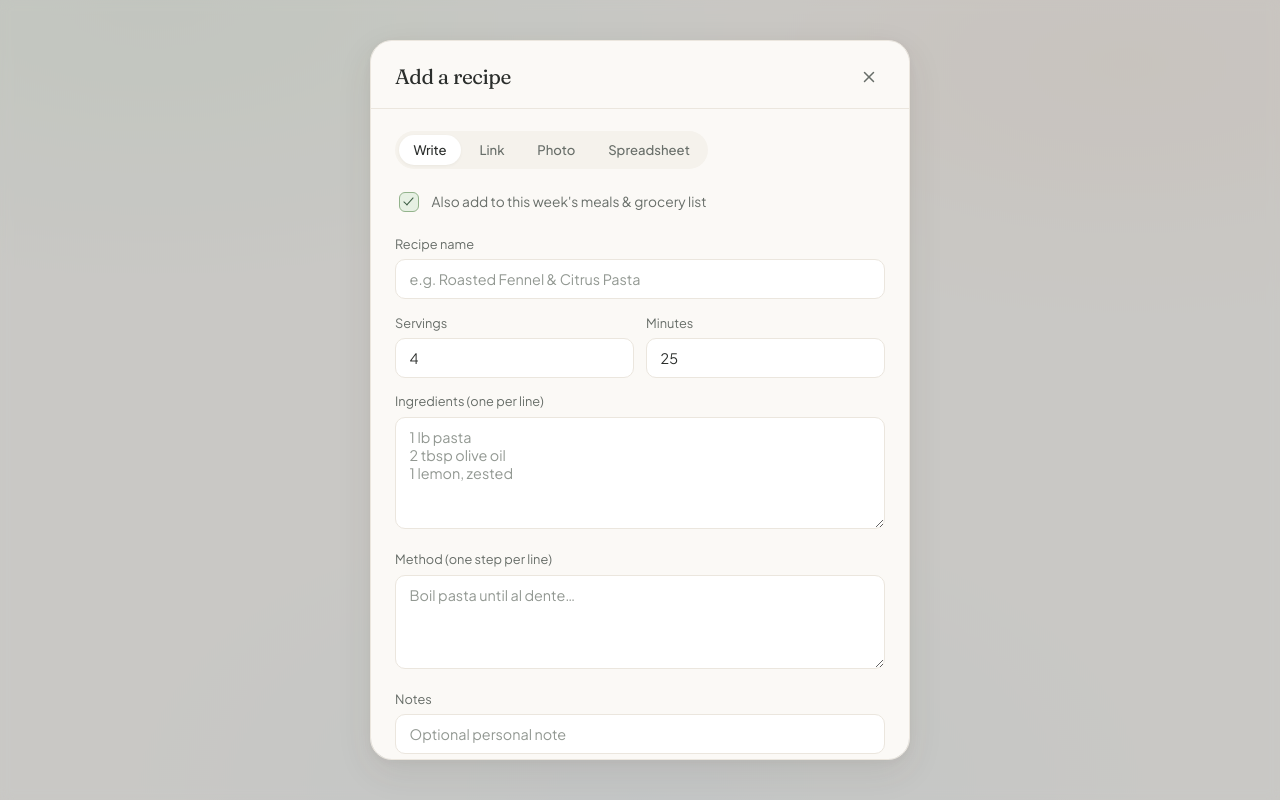
Scenario: AddRecipeModal — multi-page recipe photos & Gemini Vision feedback › explains clearly when Firebase AI needs App Check instead of silently hiding why local OCR ran
Click the tab "Photo" at (556, 150), box x1=523 y1=135 x2=590 y2=165
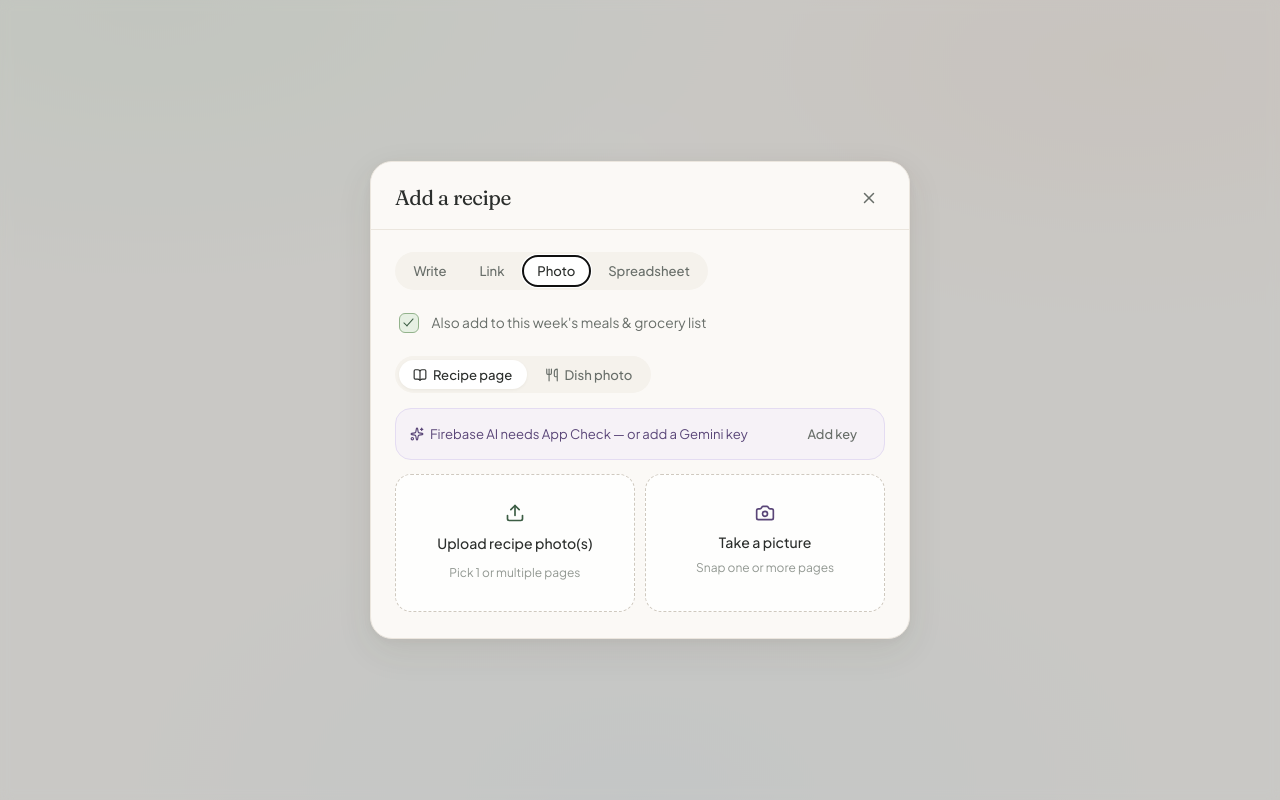
Expected: the text "Firebase AI needs App Check — or add a Gemini key" is shown, x1=410 y1=424 x2=748 y2=444
Click the button "Add key" at (832, 434), box x1=795 y1=420 x2=870 y2=448
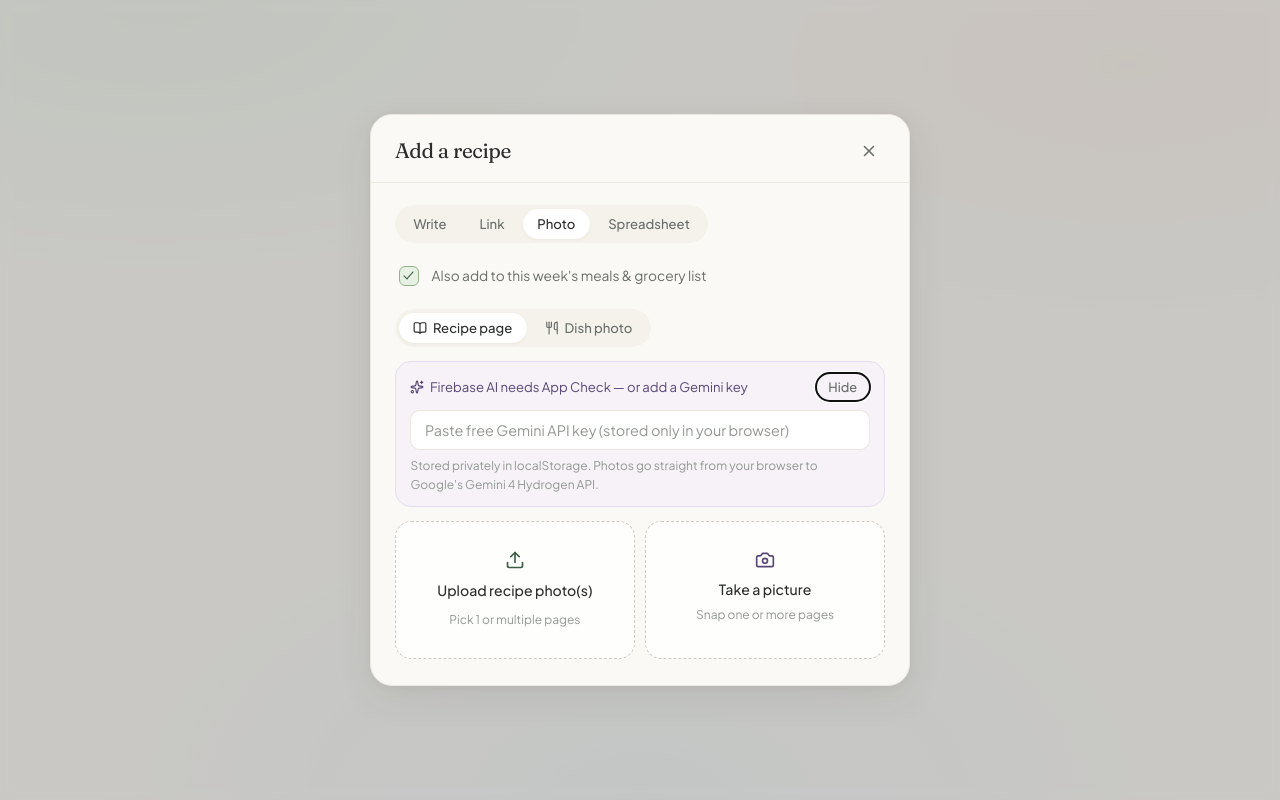
Expected: the password field labelled "Paste free Gemini API key (stored only in your browser)" is shown, x1=410 y1=410 x2=870 y2=450
